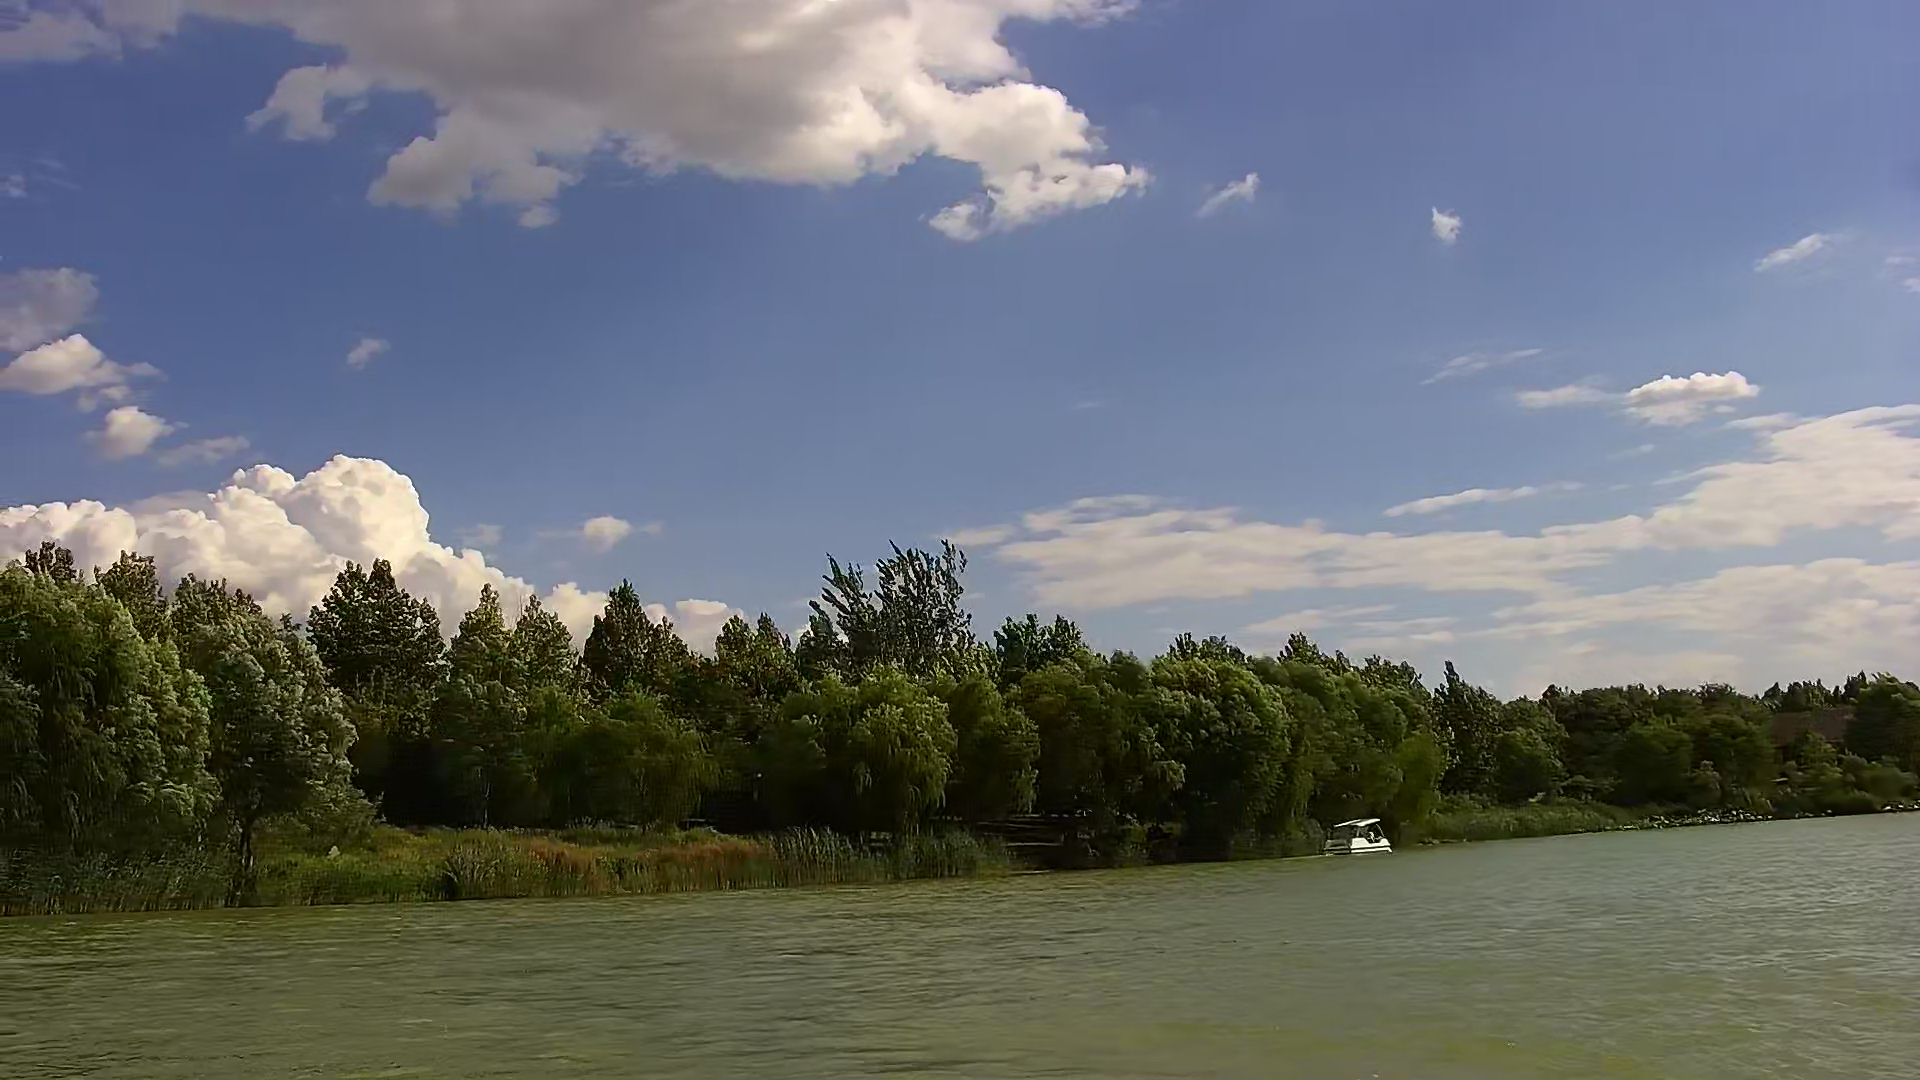boat: (1327, 816, 1385, 855)
